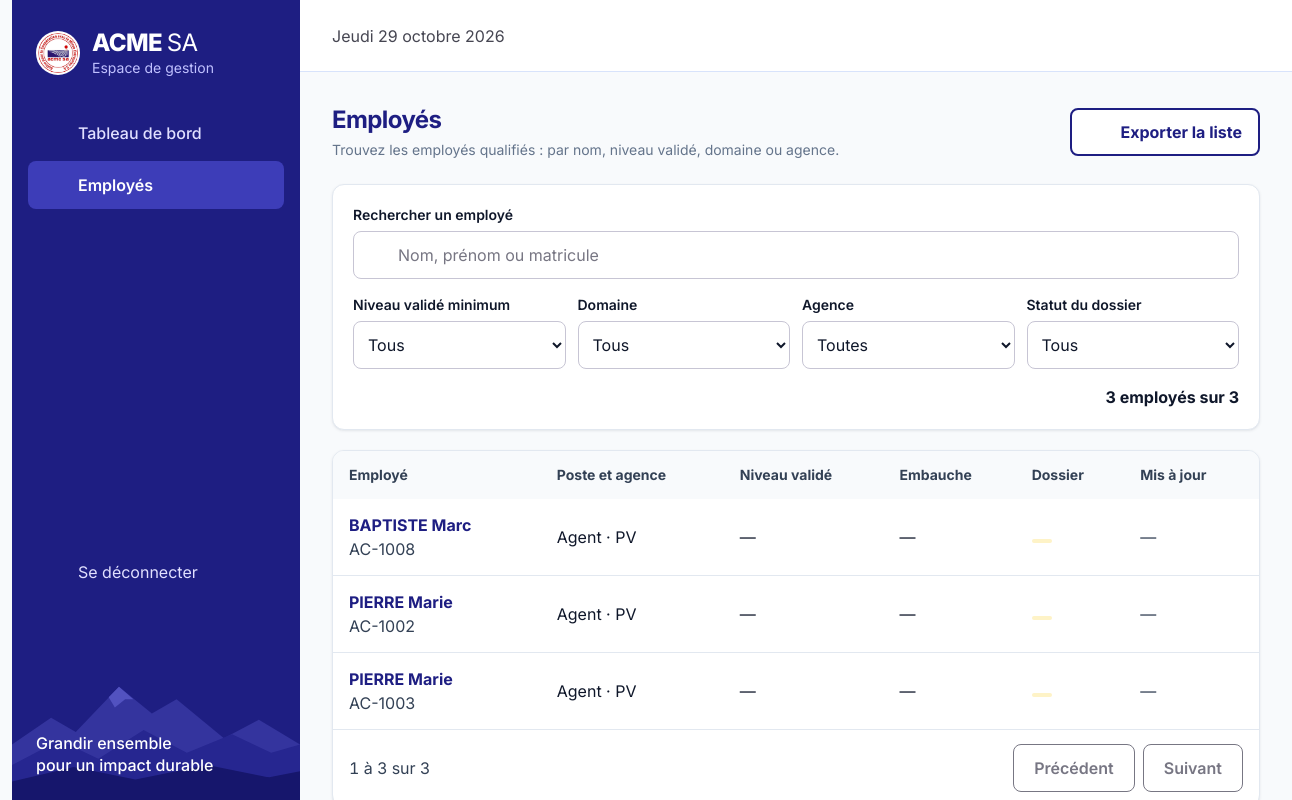
Test case: EmployeeSearch (US-18) › la recherche part 300 ms après la dernière frappe, pas avant
Expected: the text "3 employés sur 3" is shown, x1=1106 y1=385 x2=1239 y2=409
Type "pierre" into the search field labelled "Rechercher un employé" at x=812, y=255, box x1=398 y1=235 x2=1226 y2=275
Wait 300 ms
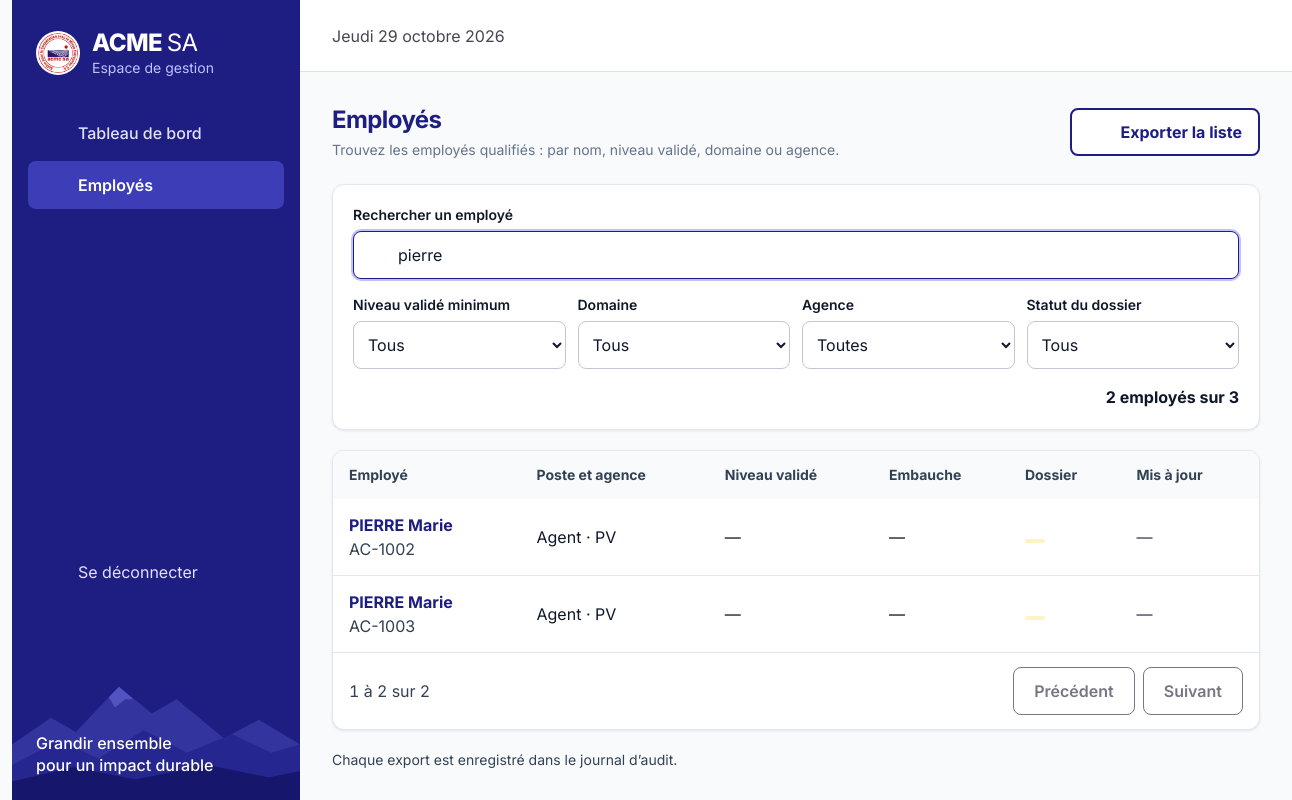
Result: the text "2 employés sur 3" is shown at x1=1106 y1=385 x2=1239 y2=409
